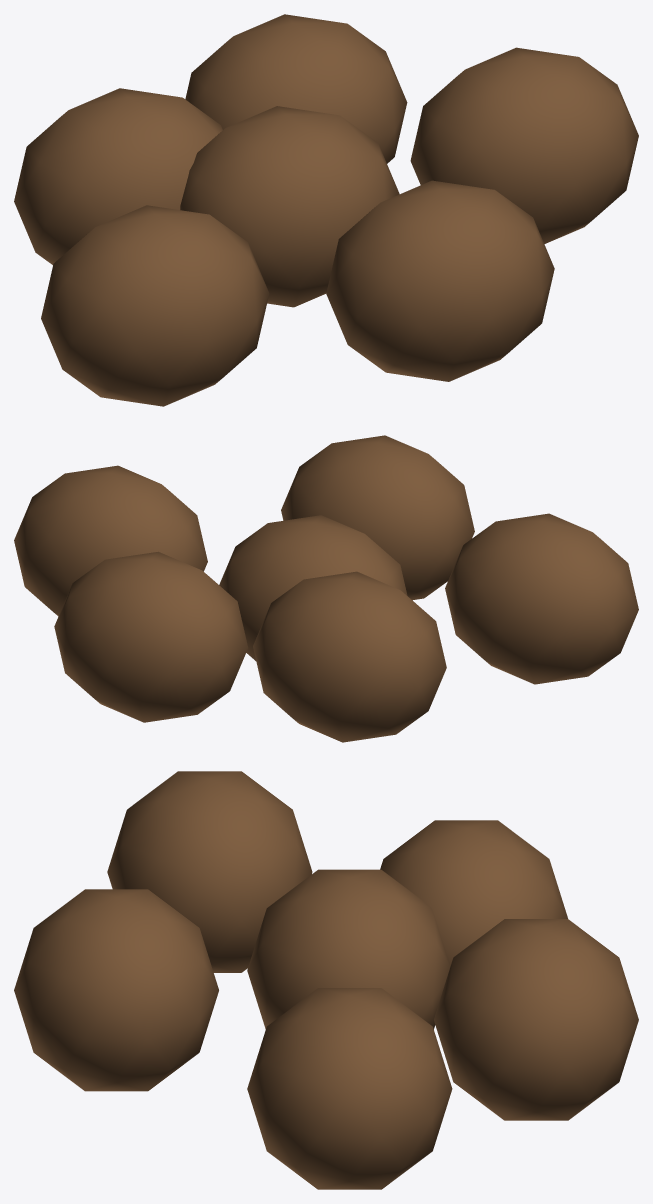
Rendered from Pellets.glb.
3 views of the same model, one above another, from view 1: azimuth 30°, elevation 25°; view 2: azimuth 150°, elevation 25°; view 3: azimuth 270°, elevation 25° (orthographic). The views are drawn at different scales.
Visible parts, largest first — view 1: Pellets; view 2: Pellets; view 3: Pellets.
Boxes of the visible parts, bbox=[...] form: Pellets: bbox=[14, 14, 638, 406]; Pellets: bbox=[14, 435, 638, 742]; Pellets: bbox=[14, 771, 638, 1189].
Size of the model in its own units: 0.1595 by 0.044 by 0.134.
